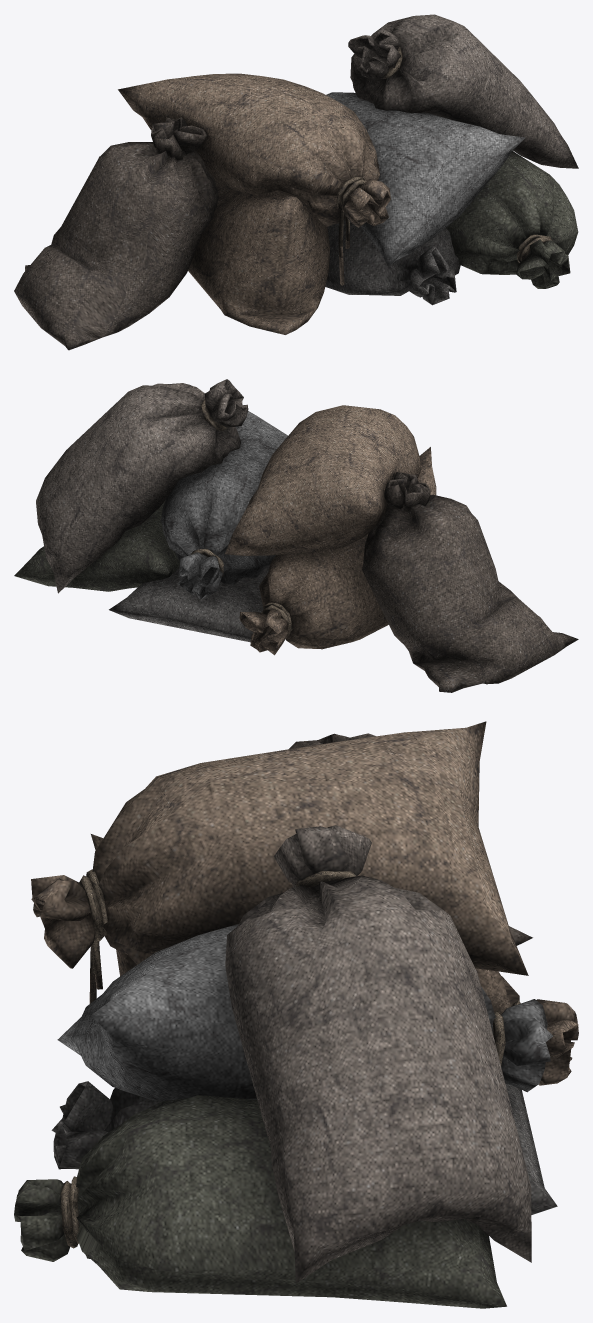
Rendered from BurlapSacksA.fbx.
3 renders of one model, top to bottom at view 1: azimuth 30°, elevation 25°; view 2: azimuth 150°, elevation 25°; view 3: azimuth 270°, elevation 25°, orthographic. The views are drawn at different scales.
Visible parts, largest first — view 1: BurlapSacksA; view 2: BurlapSacksA; view 3: BurlapSacksA.
Boxes of the visible parts, left/top/right/bottom form: BurlapSacksA: left=14, top=14, right=578, bottom=350; BurlapSacksA: left=14, top=379, right=578, bottom=692; BurlapSacksA: left=14, top=721, right=578, bottom=1308.
Size of the model in its own units: 2.22 by 0.858 by 1.2.
Materials: 1 (1 with a texture image).
